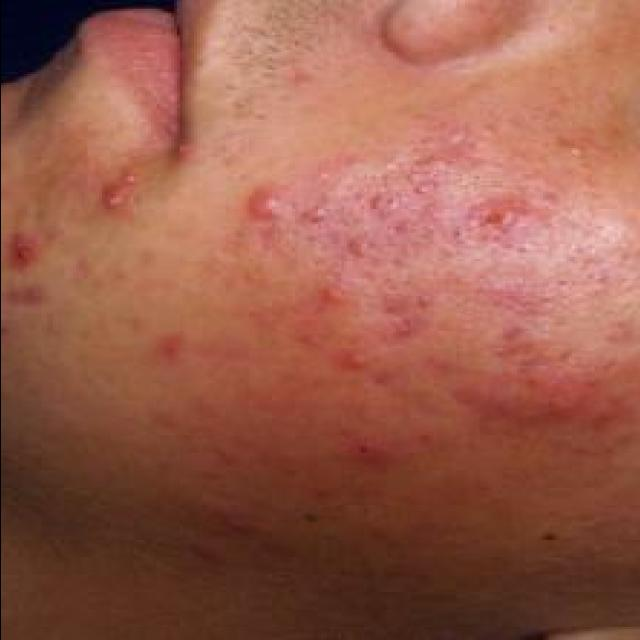Acne: (460, 366, 626, 436), (454, 198, 550, 252), (484, 274, 543, 320), (97, 167, 148, 215), (383, 209, 441, 251), (241, 182, 293, 225), (337, 429, 393, 467), (486, 322, 542, 360), (0, 228, 46, 270), (334, 226, 382, 265), (0, 280, 55, 314), (326, 342, 374, 378), (377, 312, 430, 344), (398, 171, 444, 206), (311, 278, 355, 314), (296, 198, 336, 232), (153, 330, 190, 364), (434, 122, 478, 150)
